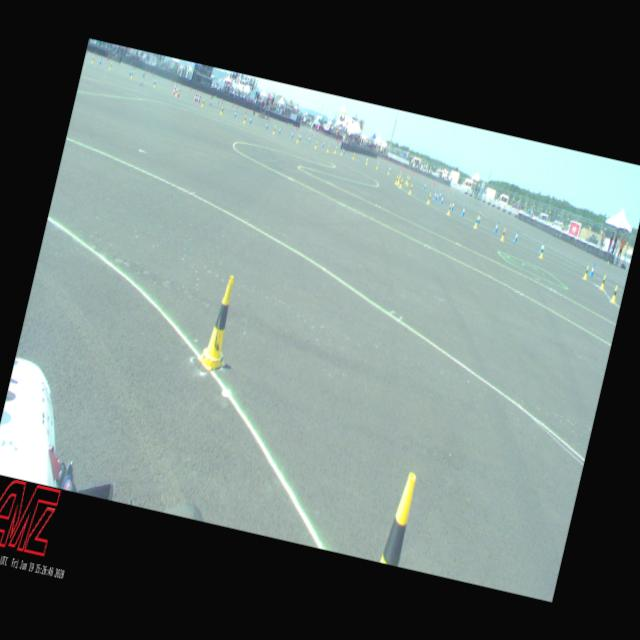blue_cone: (590, 264, 596, 276), (450, 200, 456, 210), (494, 220, 498, 232), (514, 230, 518, 242), (477, 212, 481, 223), (539, 242, 543, 252), (462, 206, 466, 216), (440, 195, 444, 204), (278, 125, 282, 134), (433, 190, 437, 199), (264, 122, 268, 130), (290, 130, 294, 138), (434, 192, 438, 200), (438, 190, 442, 198), (128, 68, 132, 75), (249, 115, 252, 123), (298, 133, 301, 140), (98, 58, 101, 64), (423, 182, 426, 188), (342, 148, 345, 154), (234, 110, 236, 118), (196, 95, 198, 102), (308, 136, 310, 142), (322, 140, 324, 146)
large_orange_cone: (196, 90, 202, 102), (172, 82, 177, 96), (176, 84, 181, 97), (194, 89, 198, 100)
yellow_cone: (195, 272, 244, 373), (379, 471, 419, 566), (610, 284, 618, 302), (598, 274, 606, 290), (582, 264, 589, 280), (538, 245, 544, 258), (473, 215, 479, 228), (426, 192, 432, 204), (500, 228, 506, 240), (447, 202, 452, 215), (408, 183, 412, 194), (386, 166, 391, 174), (396, 175, 401, 183), (200, 98, 204, 107), (243, 115, 247, 124), (394, 175, 398, 184), (296, 134, 300, 143), (398, 178, 402, 187), (339, 148, 344, 155), (314, 140, 318, 148), (352, 152, 356, 160), (272, 126, 276, 134), (326, 144, 330, 152), (130, 70, 134, 78), (404, 176, 408, 184), (174, 88, 178, 96), (375, 162, 379, 169), (333, 146, 337, 153), (406, 178, 410, 185), (220, 106, 223, 114), (109, 62, 112, 70), (90, 56, 94, 62), (366, 158, 368, 165)
